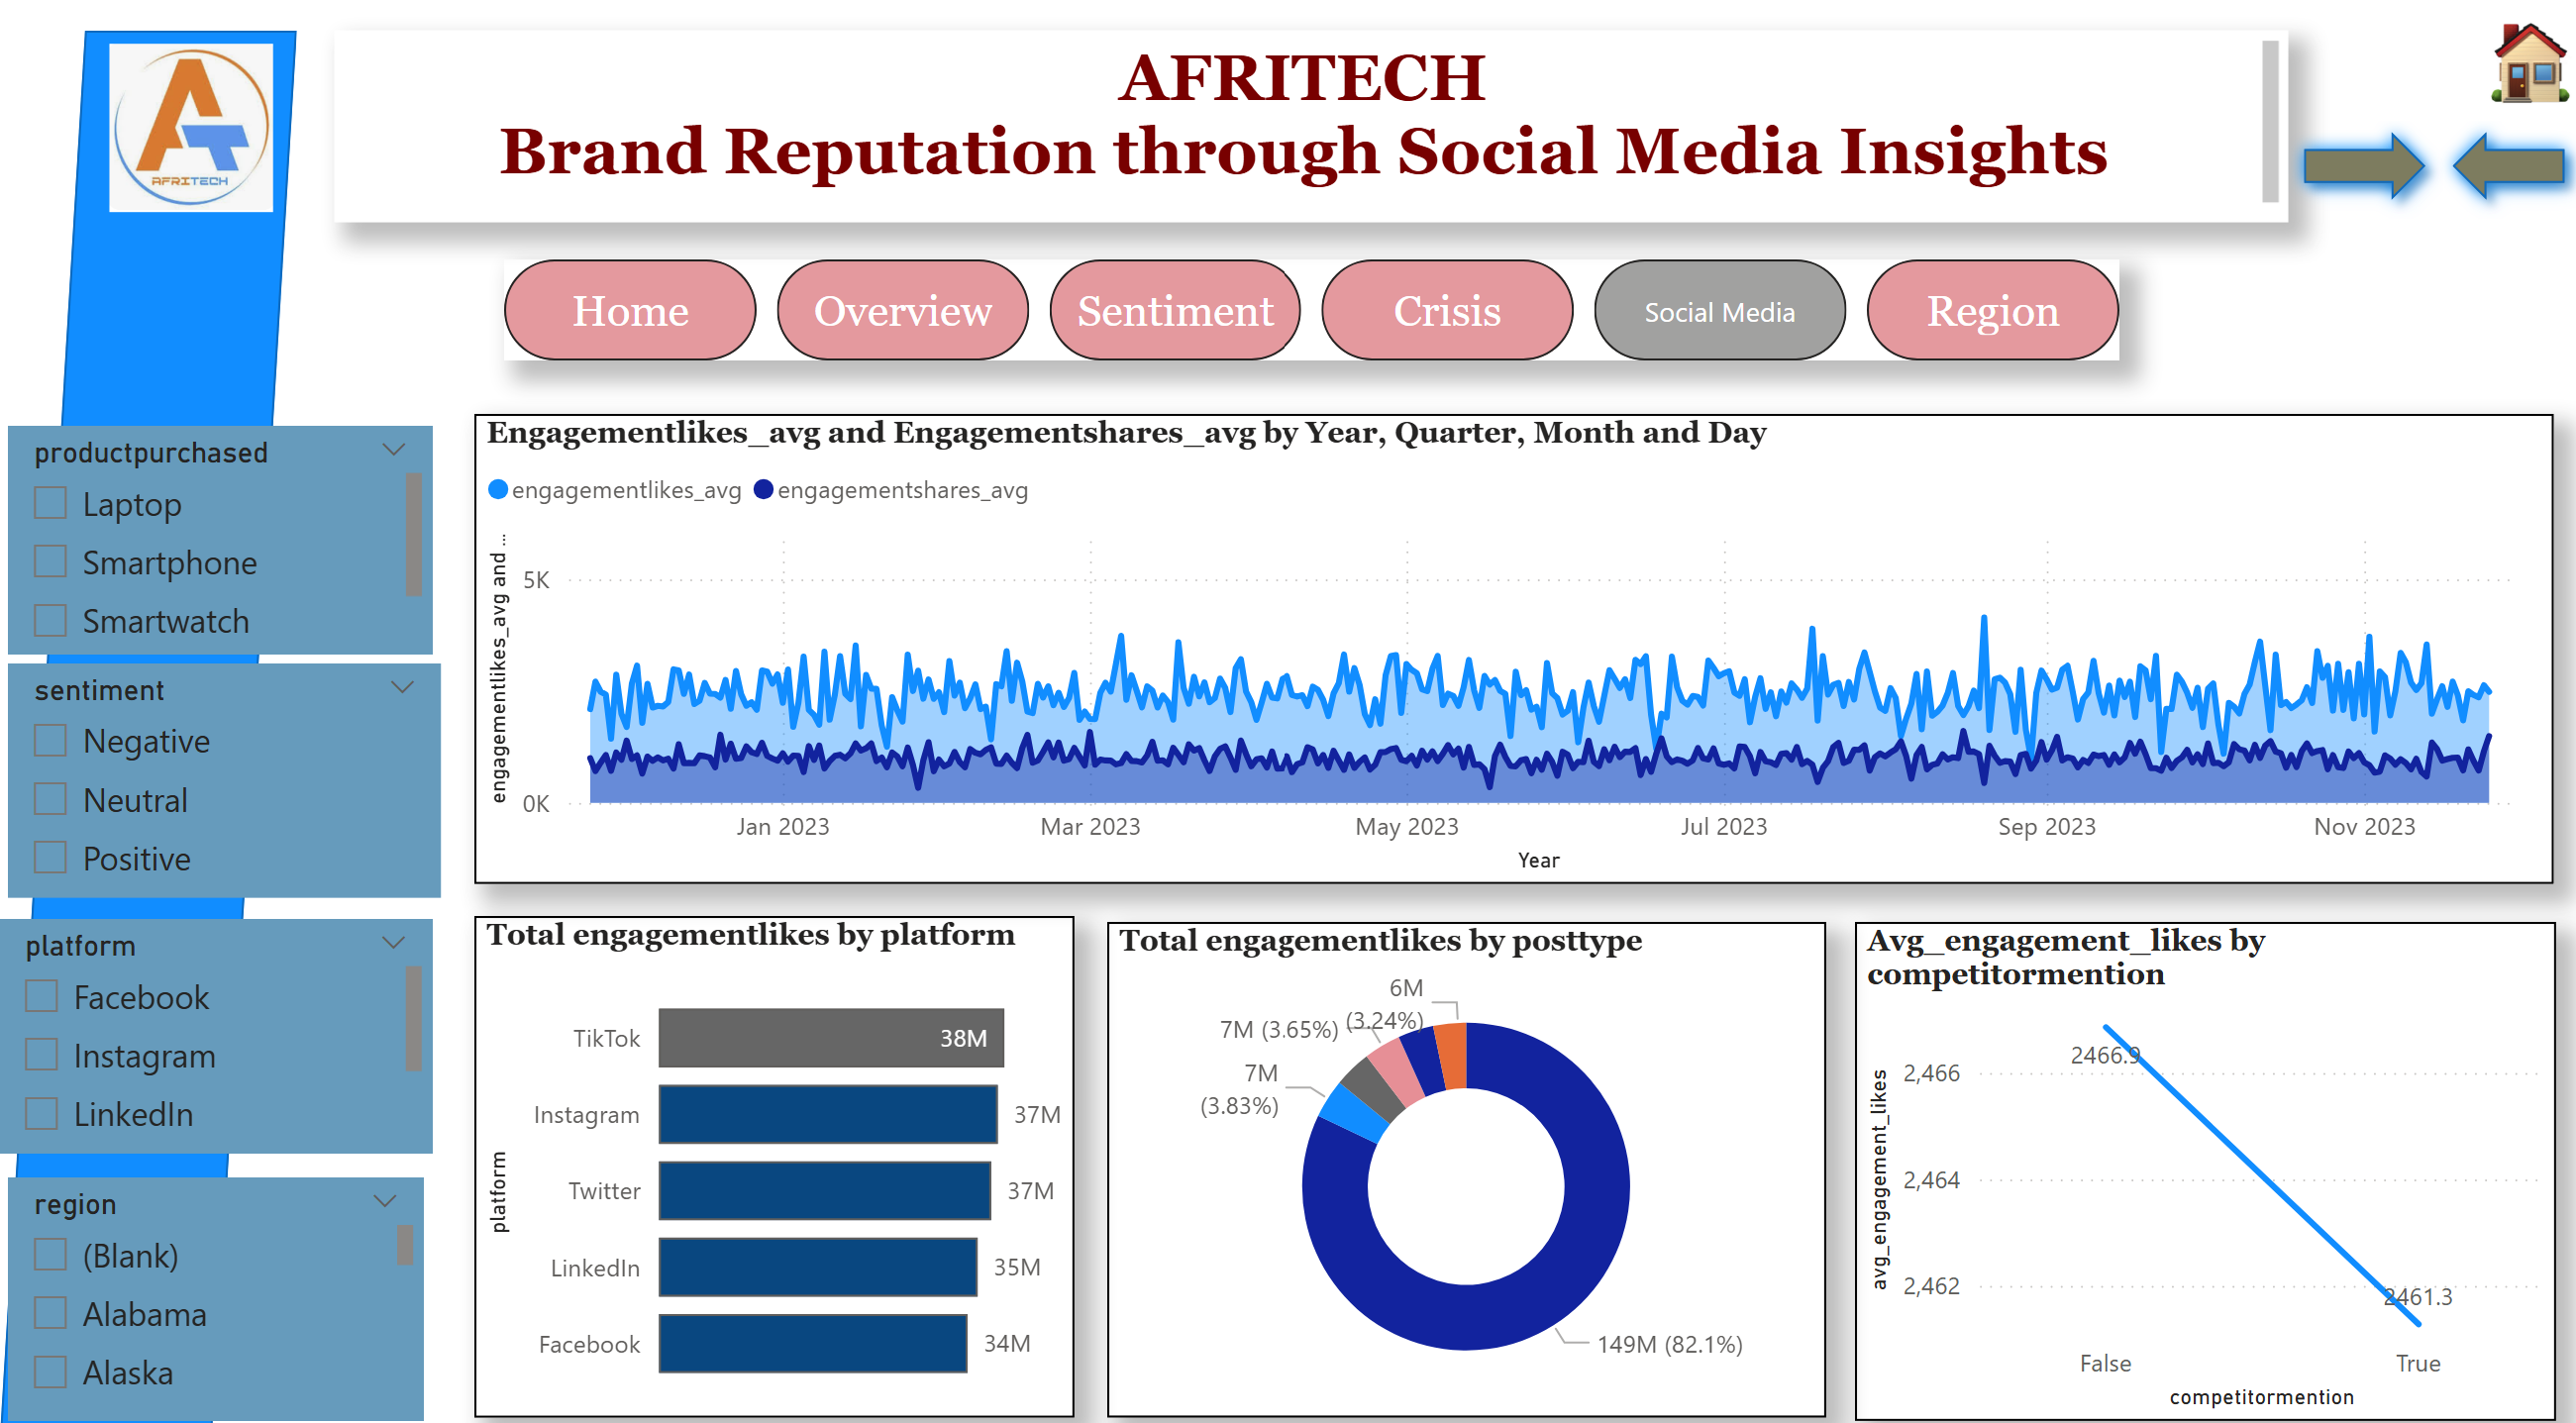

The dashboard page shown, as its layout file describes it:
{"tool":"powerbi","page":{"name":"Social Media","canvas":[1280,720],"ordinal":4},"visuals":[{"type":"shape","box":[0,16.9,147.5,703.4],"z":0,"group":"g1"},{"type":"pageNavigator","box":[250,131.2,800,50],"z":0},{"type":"textbox","box":[166.1,16.9,967.8,94.9],"z":1000},{"type":"group","id":"g1","title":"Group 1","box":[0,16.9,147.5,703.4],"z":2000},{"type":"group","id":"g2","title":"Group 2","box":[0,213,218.8,492.8],"z":3000},{"type":"lineChart","title":"Avg_engagement_likes by competitormention","fields":{"Y":["public socialmedia.avg_engagement_likes"],"Category":["public socialmedia.competitormention"]},"box":[918.8,459.4,346.9,246.9],"z":4000},{"type":"image","box":[42.4,18.6,105.1,93.2],"z":5000,"group":"g1"},{"type":"clusteredBarChart","title":"Total engagementlikes by platform","fields":{"Y":["Sum(public socialmedia.engagementlikes)"],"Category":["public platform.platform"]},"box":[235.9,456.2,296.9,248.4],"z":5000},{"type":"shape","box":[1132.8,59.4,78.1,51.6],"z":6000},{"type":"shape","box":[1206.2,59.4,73.4,51.6],"z":7000},{"type":"areaChart","title":"Engagementlikes_avg and Engagementshares_avg by Year, Quarter, Month and Day","fields":{"Category":["public socialmedia.interactiondate.Variation.Date Hierarchy.Year","public socialmedia.interactiondate.Variation.Date Hierarchy.Quarter","public socialmedia.interactiondate.Variation.Date Hierarchy.Month","public socialmedia.interactiondate.Variation.Date Hierarchy.Day"],"Y":["public socialmedia.engagementlikes_avg","public socialmedia.engagementshares_avg"]},"box":[235.9,207.8,1029.7,232.8],"z":8000},{"type":"slicer","fields":{"Values":["public products.productpurchased"]},"box":[4.3,213,210.1,113],"z":8000,"group":"g2"},{"type":"donutChart","title":"Total engagementlikes by posttype","fields":{"Category":["public crisisresponse.posttype"],"Y":["Sum(public socialmedia.engagementlikes)"]},"box":[548.4,459.4,356.2,245.3],"z":9000},{"type":"slicer","fields":{"Values":["public customers.region"]},"box":[4.3,585.5,205.8,120.3],"z":9000,"group":"g2"},{"type":"image","box":[1228.1,1.6,51.6,64.1],"z":10000},{"type":"slicer","fields":{"Values":["public platform.platform"]},"box":[0,456.5,214.5,115.9],"z":10000,"group":"g2"},{"type":"slicer","fields":{"Values":["public sentiment.sentiment"]},"box":[4.3,330.4,214.5,115.9],"z":11000,"group":"g2"}]}

Visuals, with their boxes on the page's 1280x720 design canvas (x1, y1, x2, y2). These are canvas units, not pixel positions in the 2576x1423 screenshot, which may show the page scaled, cropped or inside an application window:
shape: (0, 17, 148, 720)
pageNavigator: (250, 131, 1050, 181)
textbox: (166, 17, 1134, 112)
"Group 1" group: (0, 17, 148, 720)
"Group 2" group: (0, 213, 219, 706)
"Avg_engagement_likes by competitormention" lineChart: (919, 459, 1266, 706)
image: (42, 19, 148, 112)
"Total engagementlikes by platform" clusteredBarChart: (236, 456, 533, 705)
shape: (1133, 59, 1211, 111)
shape: (1206, 59, 1280, 111)
"Engagementlikes_avg and Engagementshares_avg by Year, Quarter, Month and Day" areaChart: (236, 208, 1266, 441)
slicer - public products.productpurchased: (4, 213, 214, 326)
"Total engagementlikes by posttype" donutChart: (548, 459, 905, 705)
slicer - public customers.region: (4, 586, 210, 706)
image: (1228, 2, 1280, 66)
slicer - public platform.platform: (0, 456, 214, 572)
slicer - public sentiment.sentiment: (4, 330, 219, 446)
